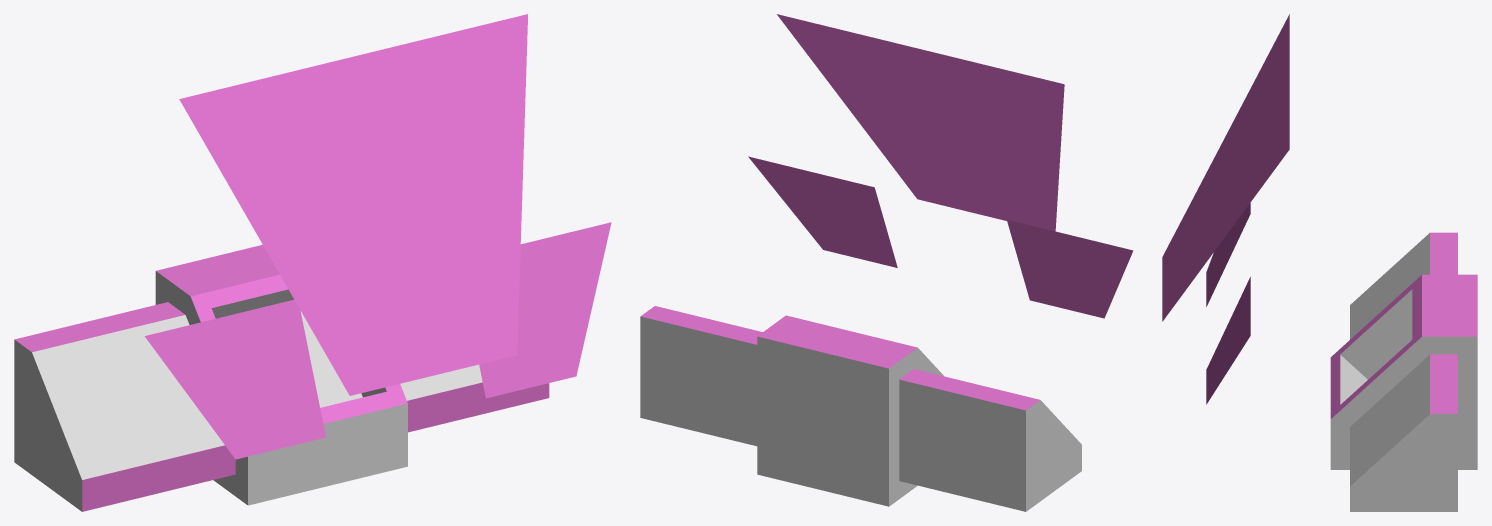
Rendered from shielder.glb.
3 views of the same model, side by side, from view 1: azimuth 30°, elevation 25°; view 2: azimuth 150°, elevation 25°; view 3: azimuth 270°, elevation 25° (orthographic). The views are drawn at different scales.
Parts seen in each view (by area): view 1: Cube; view 2: Cube; view 3: Cube.
Part boxes in pixels (box(x1,y1,x2,y2)): Cube: box(14, 14, 611, 511); Cube: box(640, 14, 1133, 511); Cube: box(1162, 14, 1477, 511).
Size of the model in its own units: 5.84 by 5.36 by 4.29.
